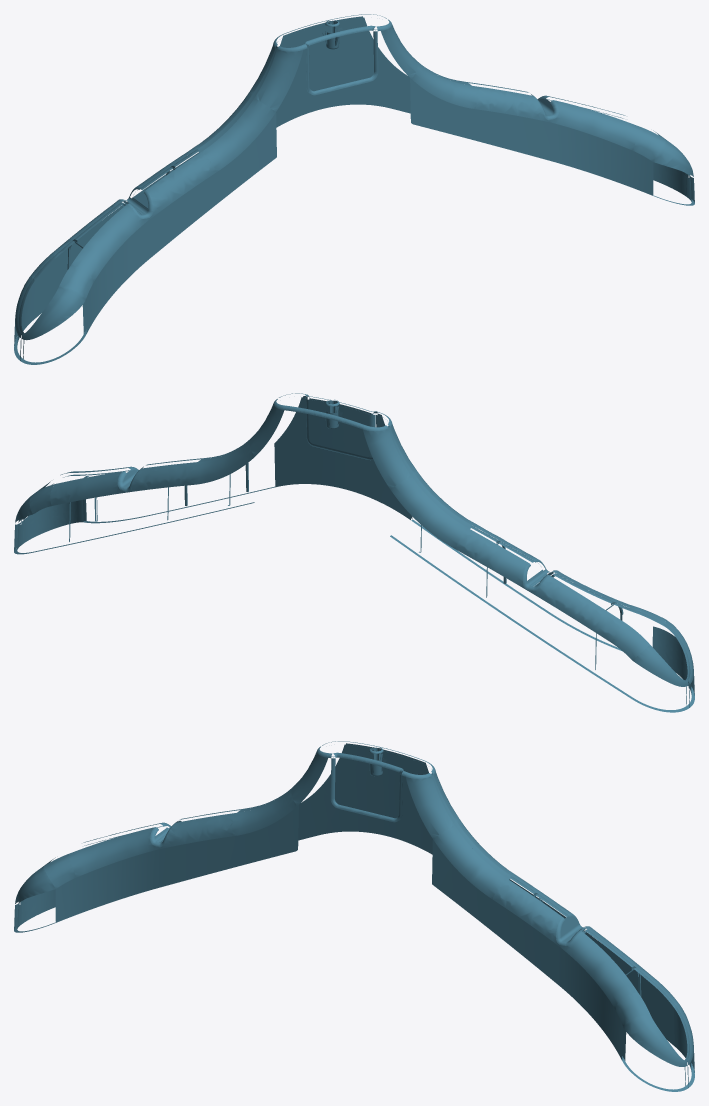
The model's file is smart-hanger-reference.glb.
3 renders of one model, top to bottom at view 1: azimuth 30°, elevation 25°; view 2: azimuth 150°, elevation 25°; view 3: azimuth 330°, elevation 25°, orthographic.
Visible parts, largest first — view 1: component-362, component-16, component-32, component-30, component-24, component-61, component-63, component-11, component-62, component-64, component-10, component-59 (+10 smaller); view 2: component-355, component-55, component-12, component-136, component-54, component-124, component-53, component-357, component-51, component-365, component-57, component-56 (+3 smaller); view 3: component-362, component-32, component-16, component-24, component-30, component-11, component-45, component-61, component-10, component-44, component-62, component-359 (+10 smaller).
Part boxes in pixels (bbox=[...]): component-362: bbox=[276, 17, 391, 127]; component-16: bbox=[411, 79, 550, 160]; component-32: bbox=[149, 112, 276, 258]; component-30: bbox=[549, 122, 652, 195]; component-24: bbox=[85, 220, 149, 333]; component-61: bbox=[71, 204, 148, 281]; component-63: bbox=[202, 98, 275, 172]; component-11: bbox=[550, 100, 639, 150]; component-62: bbox=[146, 152, 216, 219]; component-64: bbox=[255, 49, 303, 111]; component-10: bbox=[473, 86, 549, 121]; component-59: bbox=[21, 287, 85, 340]; component-355: bbox=[274, 397, 410, 519]; component-55: bbox=[455, 528, 624, 642]; component-12: bbox=[50, 462, 196, 505]; component-136: bbox=[308, 399, 370, 456]; component-54: bbox=[390, 475, 468, 548]; component-124: bbox=[390, 519, 694, 712]; component-53: bbox=[363, 428, 410, 489]; component-357: bbox=[23, 500, 83, 543]; component-51: bbox=[191, 438, 254, 484]; component-365: bbox=[653, 628, 691, 694]; component-57: bbox=[632, 645, 688, 686]; component-56: bbox=[611, 623, 649, 660]; component-362: bbox=[317, 744, 432, 854]; component-32: bbox=[158, 806, 297, 887]; component-16: bbox=[432, 839, 559, 985]; component-24: bbox=[56, 849, 159, 922]; component-30: bbox=[559, 947, 623, 1060]; component-11: bbox=[560, 931, 637, 1008]; component-45: bbox=[433, 825, 506, 899]; component-61: bbox=[69, 827, 158, 877]; component-10: bbox=[492, 879, 562, 946]; component-44: bbox=[405, 776, 453, 838]; component-62: bbox=[159, 813, 235, 848]; component-359: bbox=[585, 934, 674, 1045].
Bounding box in the file's own units: 420 × 144 × 57.25.
